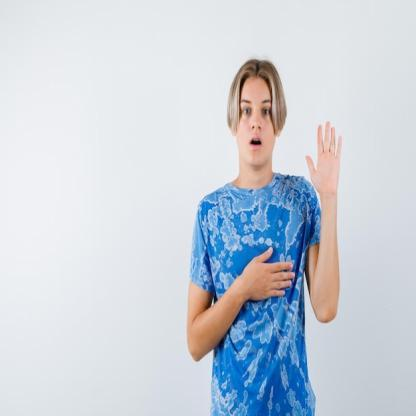stop: (304, 116, 346, 200)
